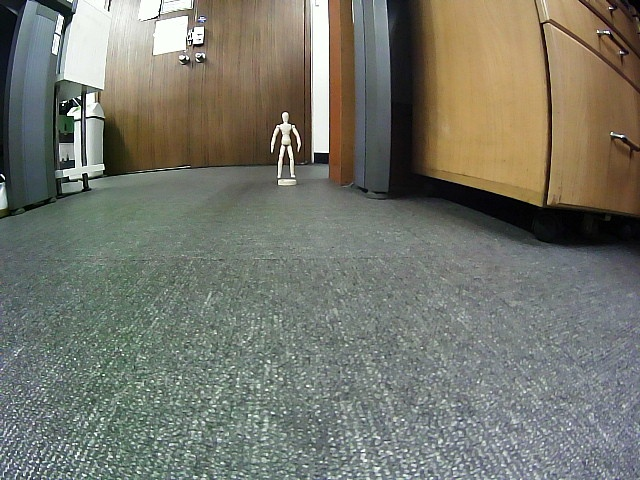person: (270, 110, 301, 179)
